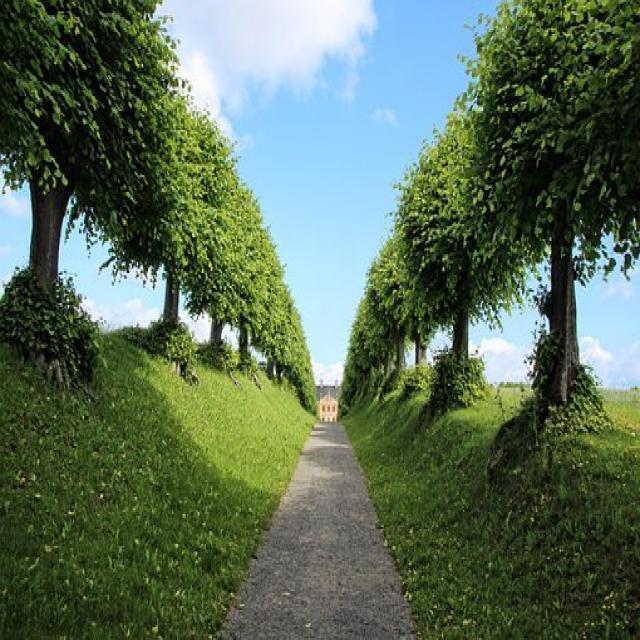Tree: (483, 1, 640, 421), (1, 1, 169, 368), (414, 73, 521, 413), (119, 74, 220, 389), (378, 191, 457, 404), (188, 148, 251, 397), (232, 212, 275, 404), (367, 251, 417, 404), (260, 278, 295, 398), (357, 293, 389, 404), (349, 317, 382, 415), (289, 325, 314, 412), (345, 340, 373, 402), (341, 357, 364, 417)
